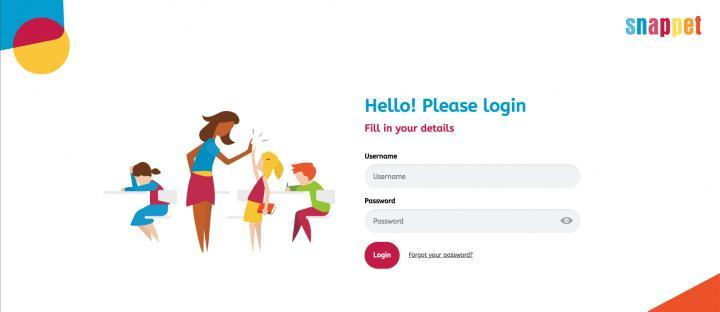button: (365, 242, 401, 271)
icon: (561, 215, 576, 226)
input: (366, 166, 582, 191), (366, 210, 582, 235)
label: (365, 96, 533, 120), (359, 150, 403, 164), (362, 195, 405, 208)
